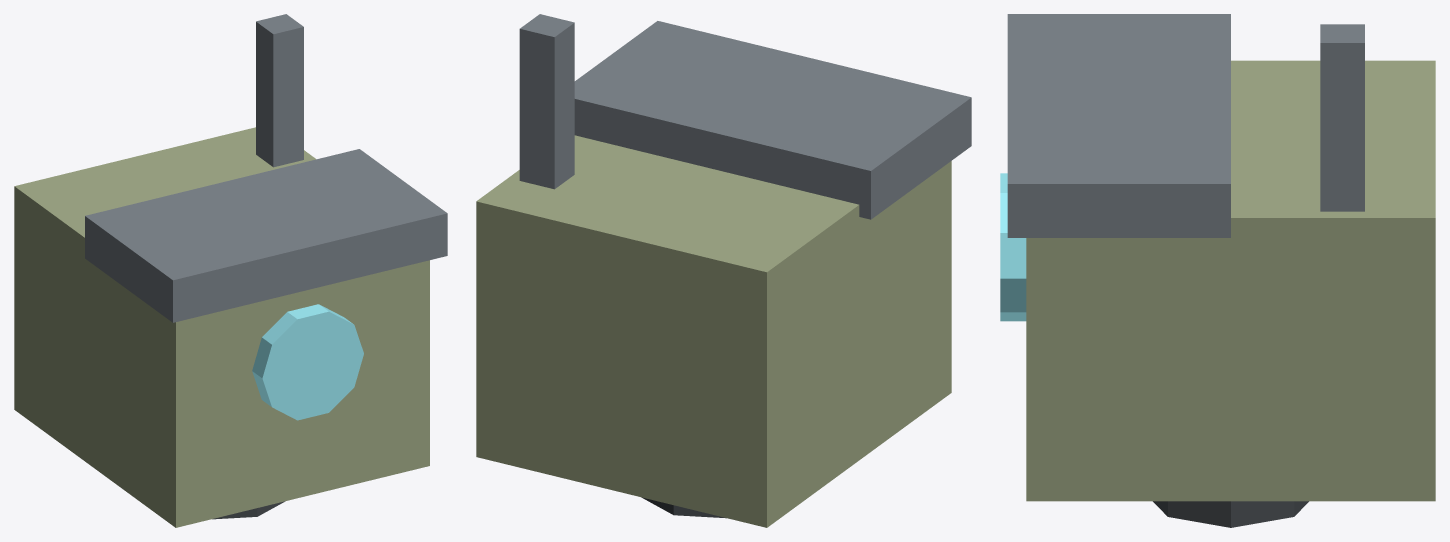
File: mod-line-mech-head-26876.glb
3 views of the same model, side by side, from view 1: azimuth 30°, elevation 25°; view 2: azimuth 150°, elevation 25°; view 3: azimuth 270°, elevation 25° (orthographic). The views are drawn at different scales.
Size of the model in its own units: 2.28 by 3.25 by 2.47.
